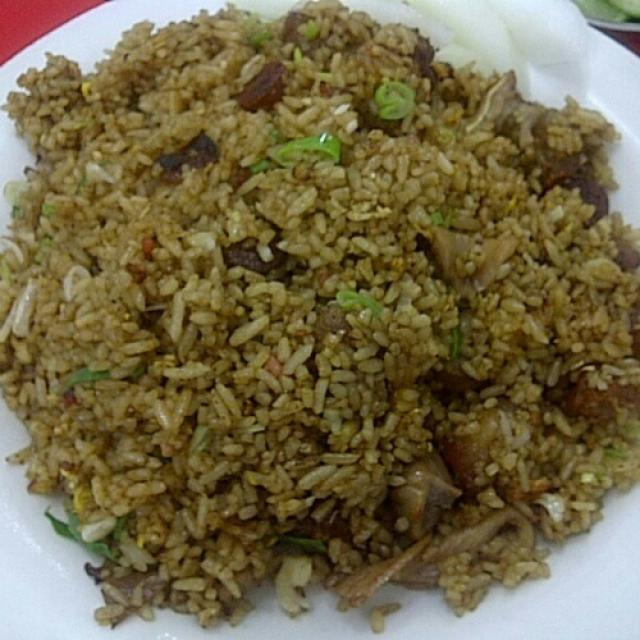米饭主食: (13, 23, 619, 613)
